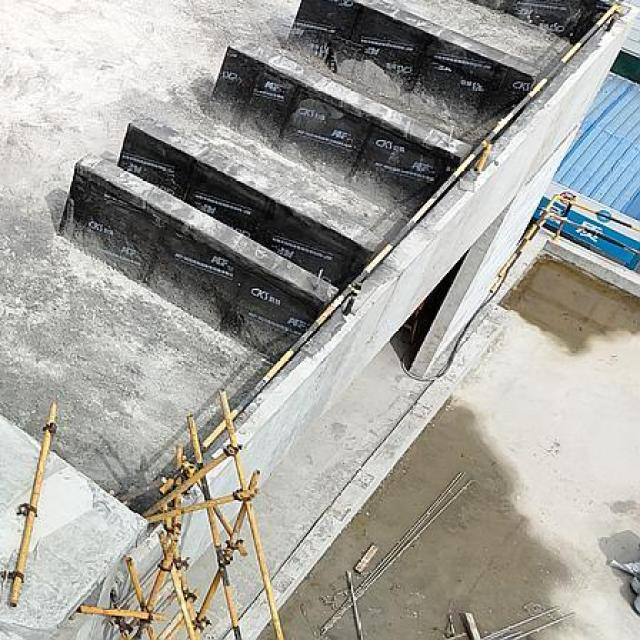edge_guardrail: (153, 1, 623, 500), (490, 193, 640, 294)
